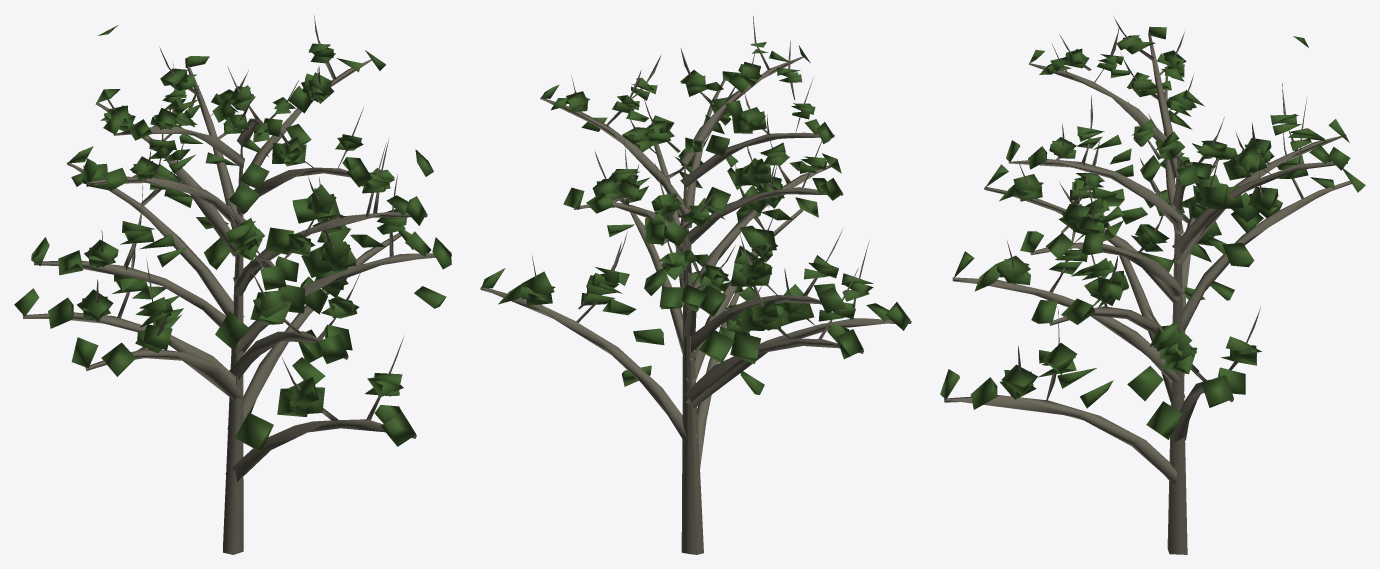
The model's file is Tree_PinOak_008.fbx.
3 renders of one model, left to right at view 1: azimuth 30°, elevation 25°; view 2: azimuth 150°, elevation 25°; view 3: azimuth 270°, elevation 25°, orthographic. The views are drawn at different scales.
Visible parts, largest first — view 1: Tree_PinOak.008; view 2: Tree_PinOak.008; view 3: Tree_PinOak.008.
Part boxes in pixels (bbox=[...]): Tree_PinOak.008: bbox=[14, 15, 451, 554]; Tree_PinOak.008: bbox=[480, 16, 911, 554]; Tree_PinOak.008: bbox=[940, 16, 1365, 554].
Bounding box in the file's own units: 1728 × 2144 × 1620.
